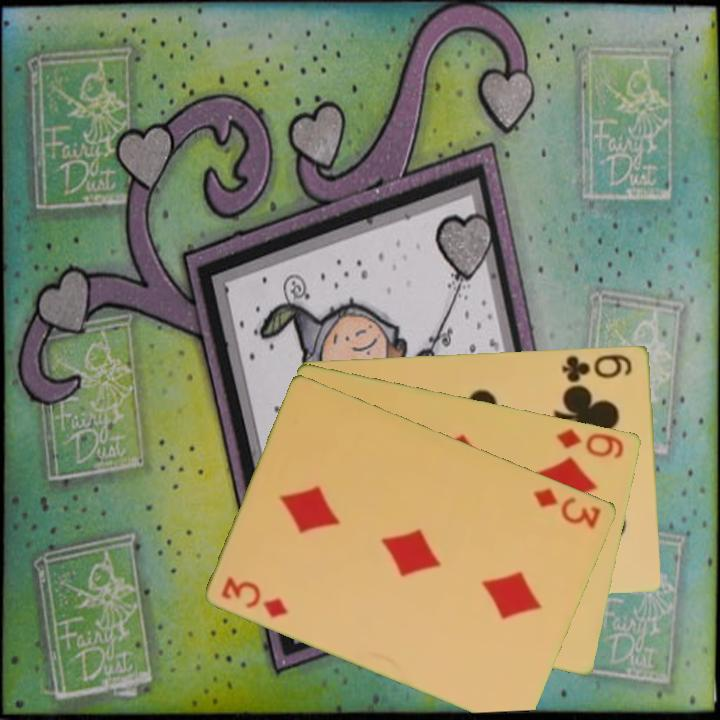3d: (218, 573, 292, 621), (530, 484, 605, 531)
6c: (558, 350, 635, 385)
6d: (553, 425, 627, 461)
